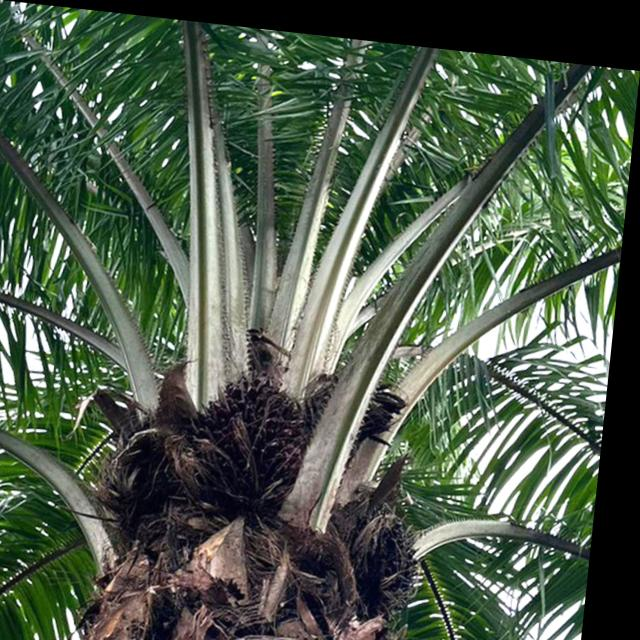almost: (197, 362, 324, 505)
